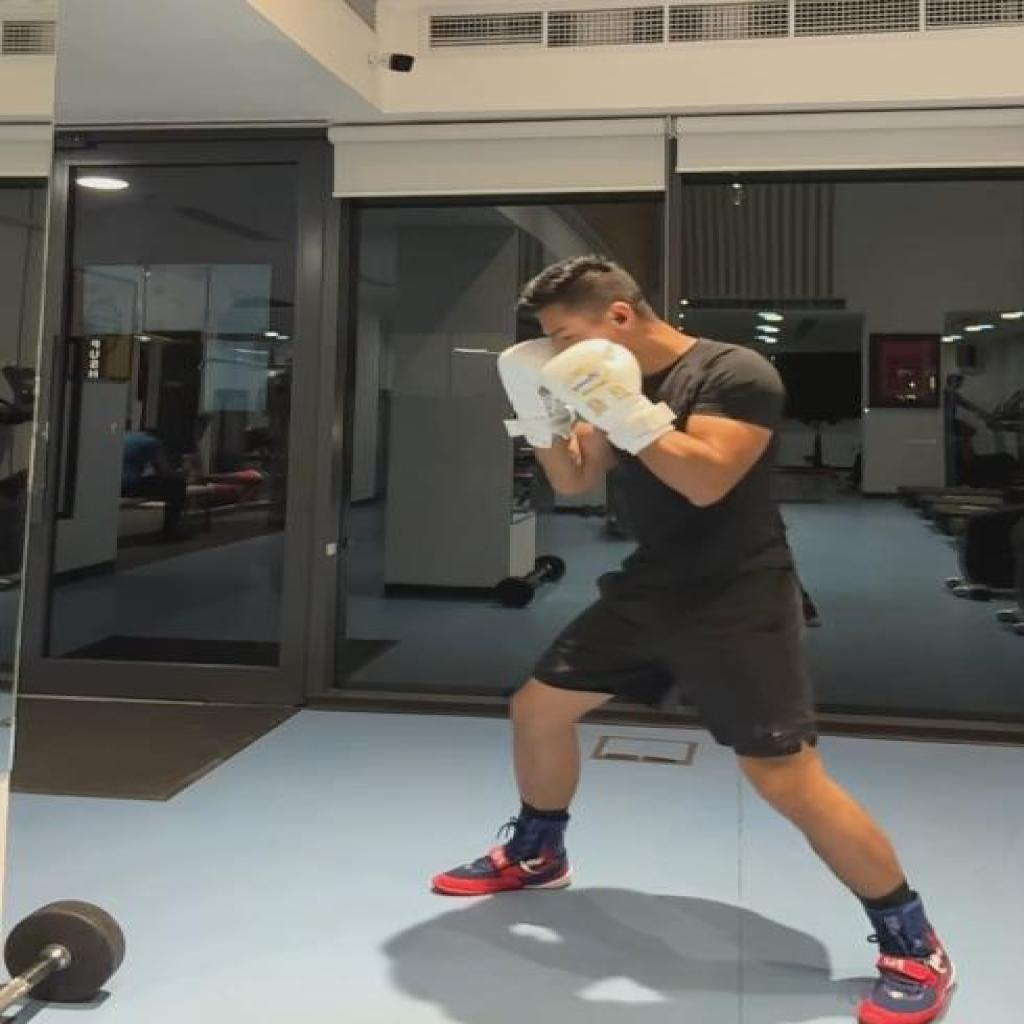no punch: (428, 256, 966, 1024)
